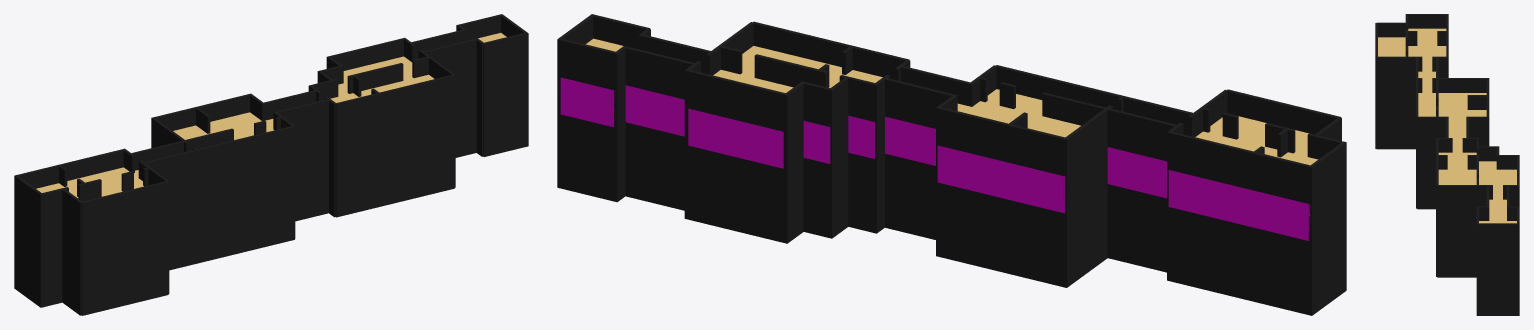
The model's file is ENTIRELV3.fbx.
3 renders of one model, left to right at view 1: azimuth 30°, elevation 25°; view 2: azimuth 150°, elevation 25°; view 3: azimuth 270°, elevation 25°, orthographic. The views are drawn at different scales.
Visible parts, largest first — view 1: Wall__18__2, Wall__35__2, Wall__52__2, Wall__18_, Wall__18__1, Wall__35_, Wall__35__1, Wall__52_, Wall__1__2, Wall__52__1, Wall__24__2, Wall__47_ (+37 smaller); view 2: Wall__47__2, Wall__29__2, Wall__9__2, Wall__47_, Wall__47__1, Wall__29_, Wall__29__1, Wall__4__2, Wall__38__2, Wall_1_2, Wall__9_, Wall__23__2 (+49 smaller); view 3: Wall_2, Wall__7__2, Wall__48__2, Wall__7_, Wall, Wall_1, Cube__12__1, Wall__7__1, Wall__28__2, Wall__31_, Wall__48_, Cube__3__1 (+37 smaller).
Boxes of the visible parts, <box> form: Wall__18__2: <box>335,132,454,217</box>; Wall__35__2: <box>197,183,294,263</box>; Wall__52__2: <box>81,238,168,315</box>; Wall__18_: <box>335,74,454,132</box>; Wall__18__1: <box>335,104,454,160</box>; Wall__35_: <box>197,126,294,178</box>; Wall__35__1: <box>197,155,294,206</box>; Wall__52_: <box>81,181,168,231</box>; Wall__1__2: <box>483,90,527,156</box>; Wall__52__1: <box>81,210,168,259</box>; Wall__24__2: <box>295,157,328,221</box>; Wall__47_: <box>17,149,124,188</box>; Wall__47__2: <box>1168,207,1309,314</box>; Wall__29__2: <box>937,182,1064,287</box>; Wall__9__2: <box>688,145,783,242</box>; Wall__47_: <box>1168,131,1311,203</box>; Wall__47__1: <box>1168,170,1310,240</box>; Wall__29_: <box>937,107,1066,176</box>; Wall__29__1: <box>937,145,1064,213</box>; Wall__4__2: <box>625,122,684,210</box>; Wall__38__2: <box>1107,184,1166,272</box>; Wall_1_2: <box>559,114,615,201</box>; Wall__9_: <box>687,70,786,131</box>; Wall__23__2: <box>885,153,935,239</box>; Wall_2: <box>1476,270,1519,315</box>; Wall__7__2: <box>1437,231,1476,277</box>; Wall__48__2: <box>1376,103,1406,149</box>; Wall__7_: <box>1437,185,1492,208</box>; Wall: <box>1476,223,1519,247</box>; Wall_1: <box>1476,247,1519,270</box>; Cube__12__1: <box>1408,28,1446,70</box>; Wall__7__1: <box>1437,209,1476,231</box>; Wall__28__2: <box>1417,163,1435,209</box>; Wall__31_: <box>1432,78,1489,92</box>; Wall__48_: <box>1376,56,1406,80</box>; Cube__3__1: <box>1479,169,1516,198</box>.
Size of the model in its own units: 9850 by 2000 by 2850.
